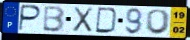9: (125, 7, 145, 36)
B: (41, 5, 66, 33)
D: (94, 7, 120, 35)
O: (145, 9, 172, 35)
P: (18, 4, 43, 32)
X: (72, 6, 95, 33)
